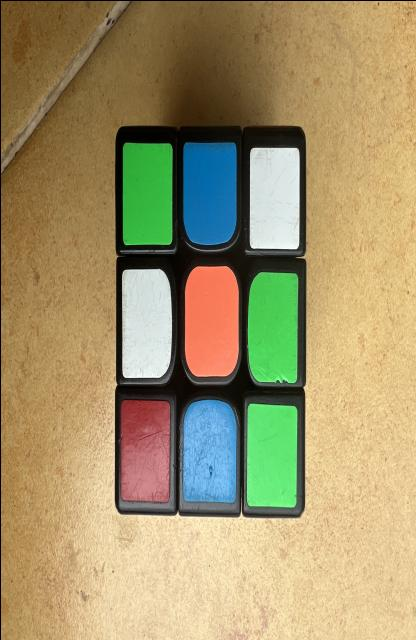Blue: (182, 398, 236, 502), (182, 142, 236, 245)
Green: (246, 272, 297, 383), (245, 403, 297, 507), (122, 142, 171, 245)
Orange: (184, 265, 238, 377)
Red: (120, 398, 169, 502)
White: (121, 268, 171, 377), (249, 147, 299, 248)
